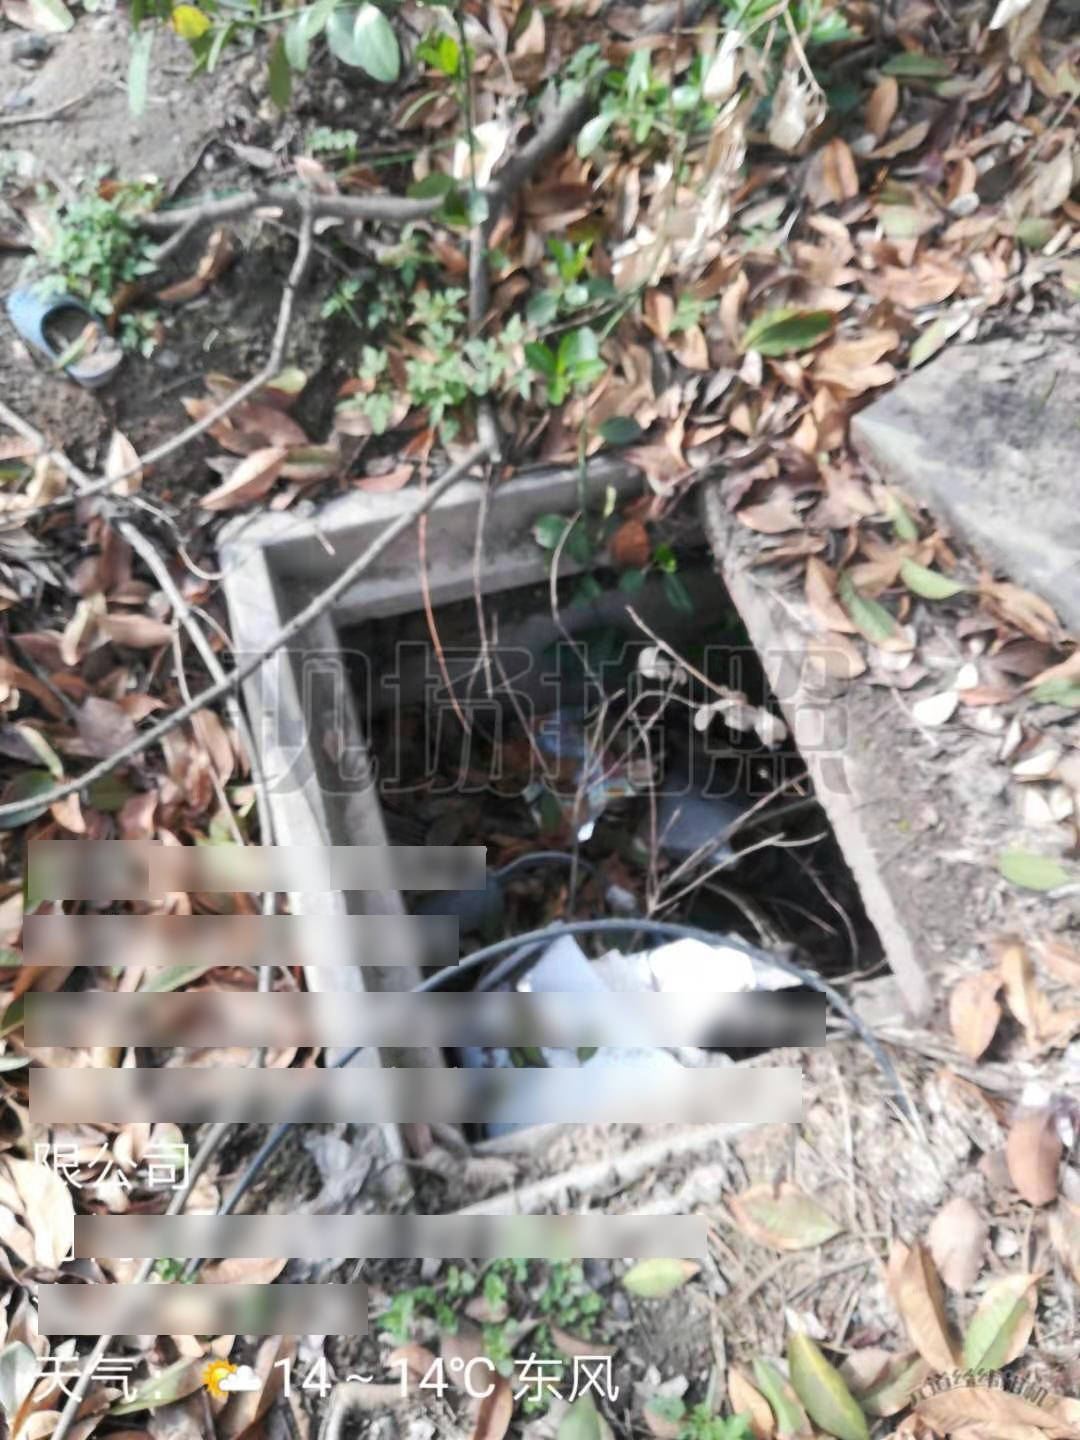lose: (213, 442, 942, 1253)
